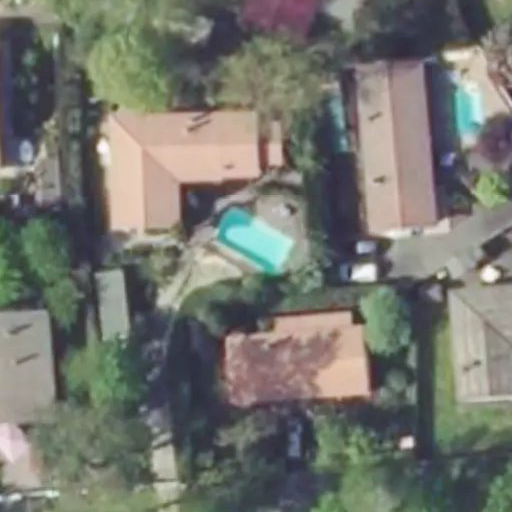pool: (212, 240, 294, 243)
